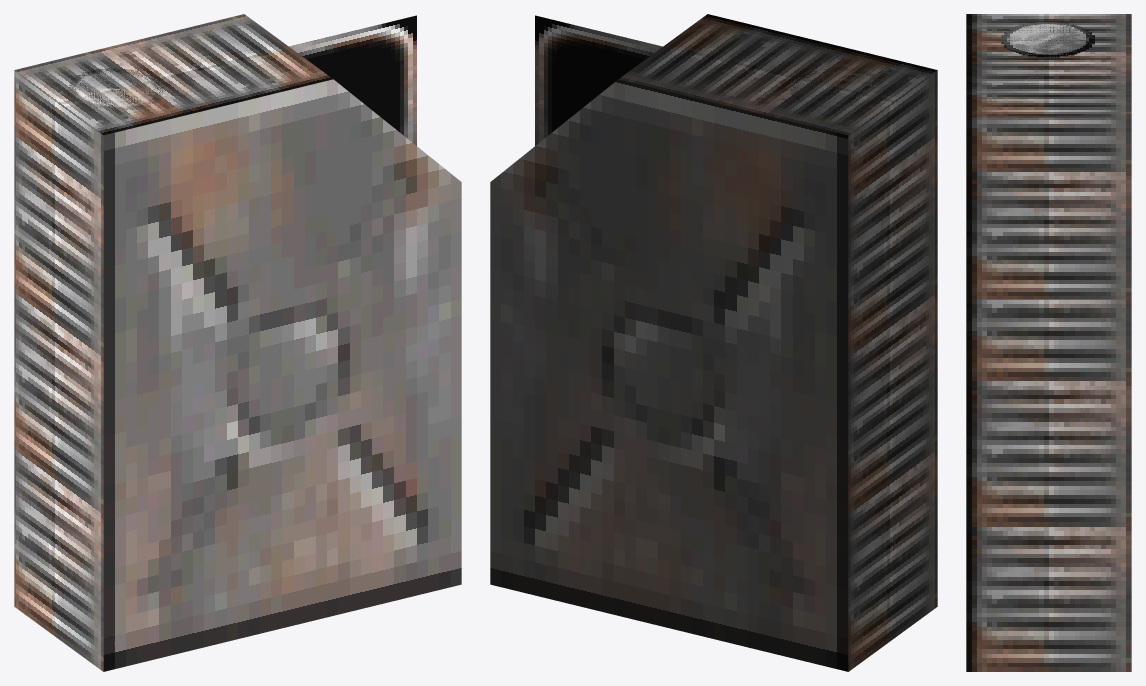
File: Pjerry_can1Z.obj
The picture shows the model from 3 angles, left to right: view 1: azimuth 30°, elevation 25°; view 2: azimuth 150°, elevation 25°; view 3: azimuth 270°, elevation 25°; orthographic projection. The views are drawn at different scales.
Bounding box in the file's own units: 408 × 584 × 176.
Materials: 4 (4 with a texture image).
